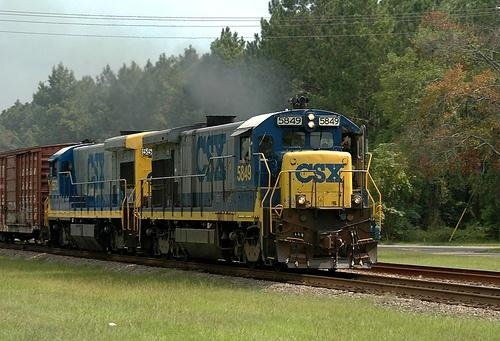train: (3, 93, 383, 273)
